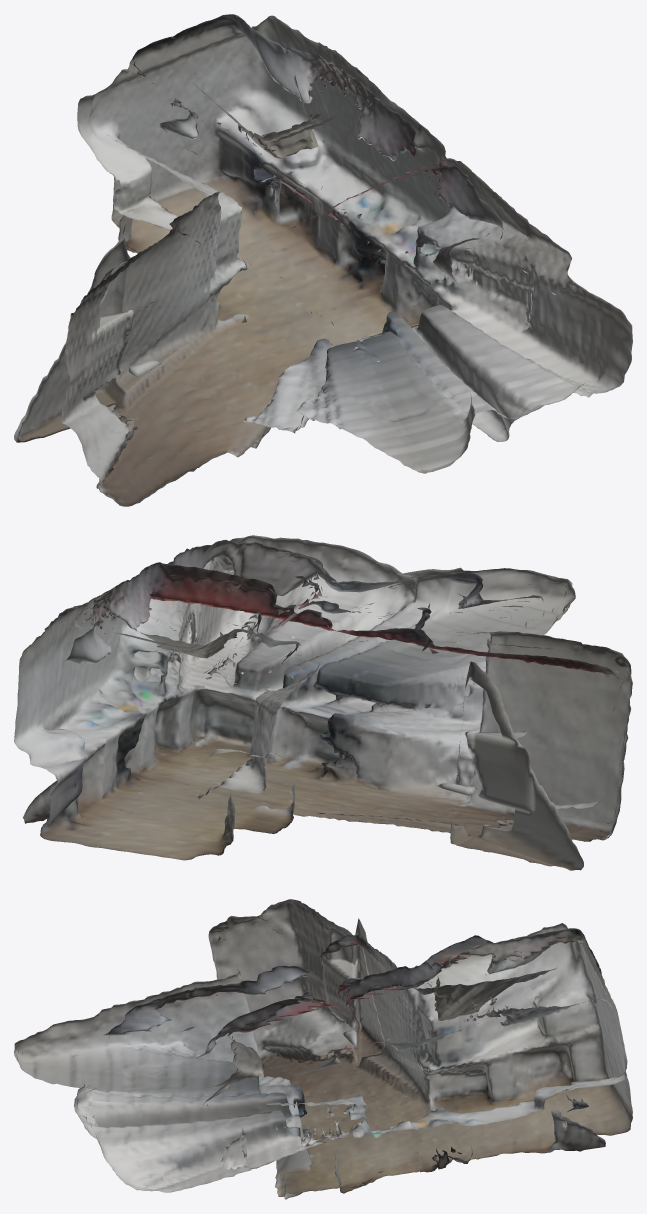
The model's file is lab-v1-small.glb.
3 views of the same model, one above another, from view 1: azimuth 30°, elevation 25°; view 2: azimuth 150°, elevation 25°; view 3: azimuth 270°, elevation 25° (orthographic). The views are drawn at different scales.
Visible parts, largest first — view 1: world; view 2: world; view 3: world.
Part boxes in pixels (left/top/right/bottom): world: left=14, top=14, right=632, bottom=506; world: left=14, top=535, right=632, bottom=870; world: left=14, top=899, right=632, bottom=1199.
Size of the model in its own units: 6.06 by 3.22 by 7.95.
